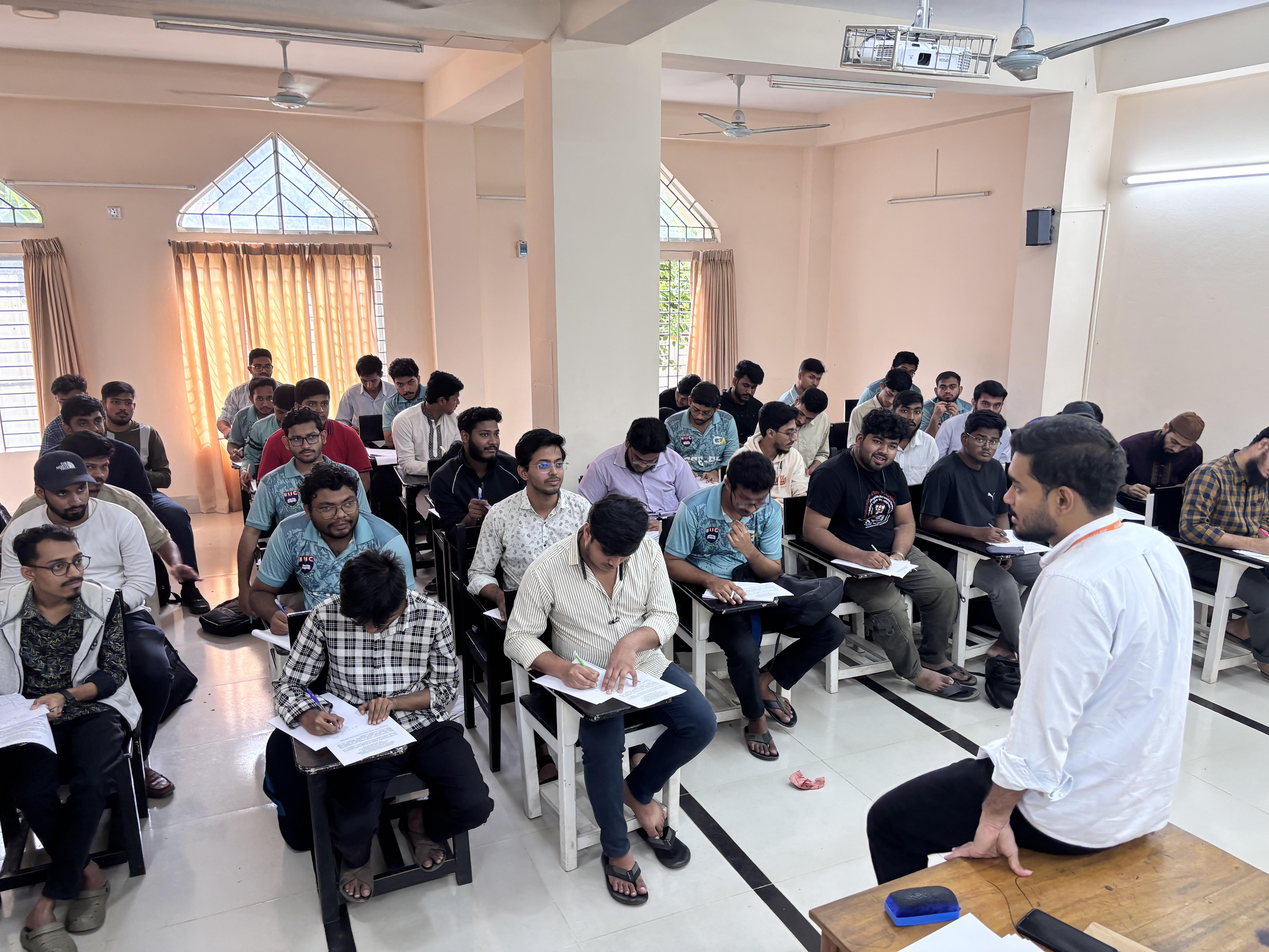no_cheating: (514, 512, 685, 770), (278, 560, 452, 786)
